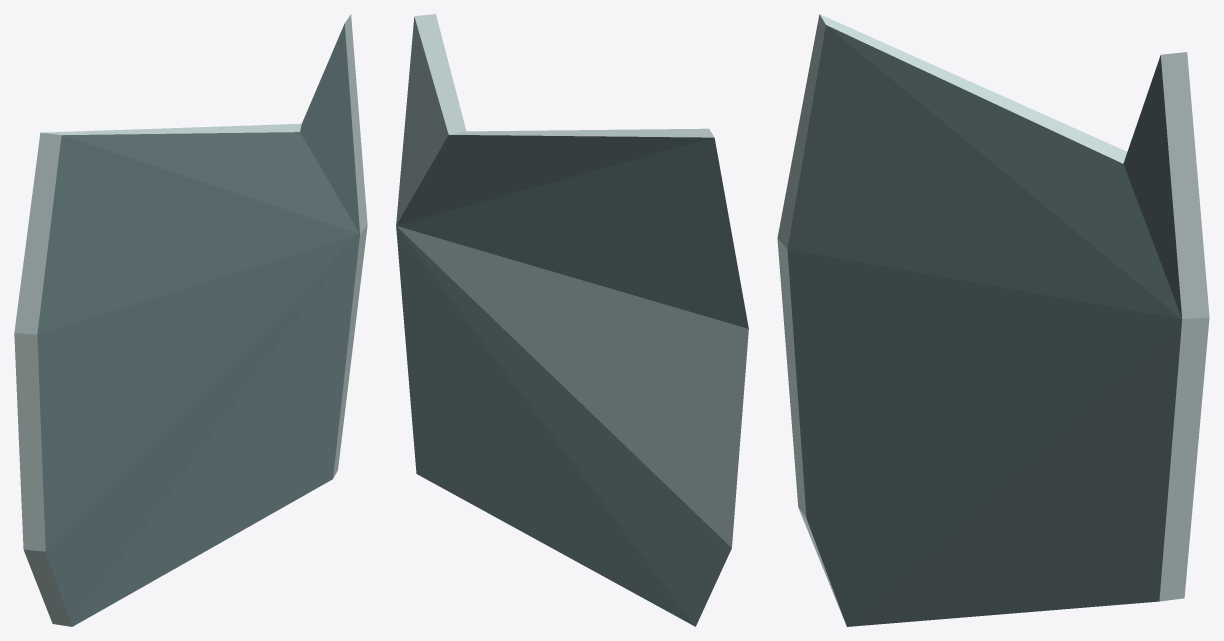
Rendered from vodka_bottle_piece_back.glb.
3 renders of one model, left to right at view 1: azimuth 30°, elevation 25°; view 2: azimuth 150°, elevation 25°; view 3: azimuth 330°, elevation 25°, orthographic. The views are drawn at different scales.
Visible parts, largest first — view 1: Curved solid jagged glass.004; view 2: Curved solid jagged glass.004; view 3: Curved solid jagged glass.004.
Boxes of the visible parts, x1=… form: Curved solid jagged glass.004: x1=14, y1=14, x2=367, y2=626; Curved solid jagged glass.004: x1=396, y1=14, x2=748, y2=626; Curved solid jagged glass.004: x1=777, y1=14, x2=1209, y2=626.
Size of the model in its own units: 0.0648 by 0.0946 by 0.00501.
